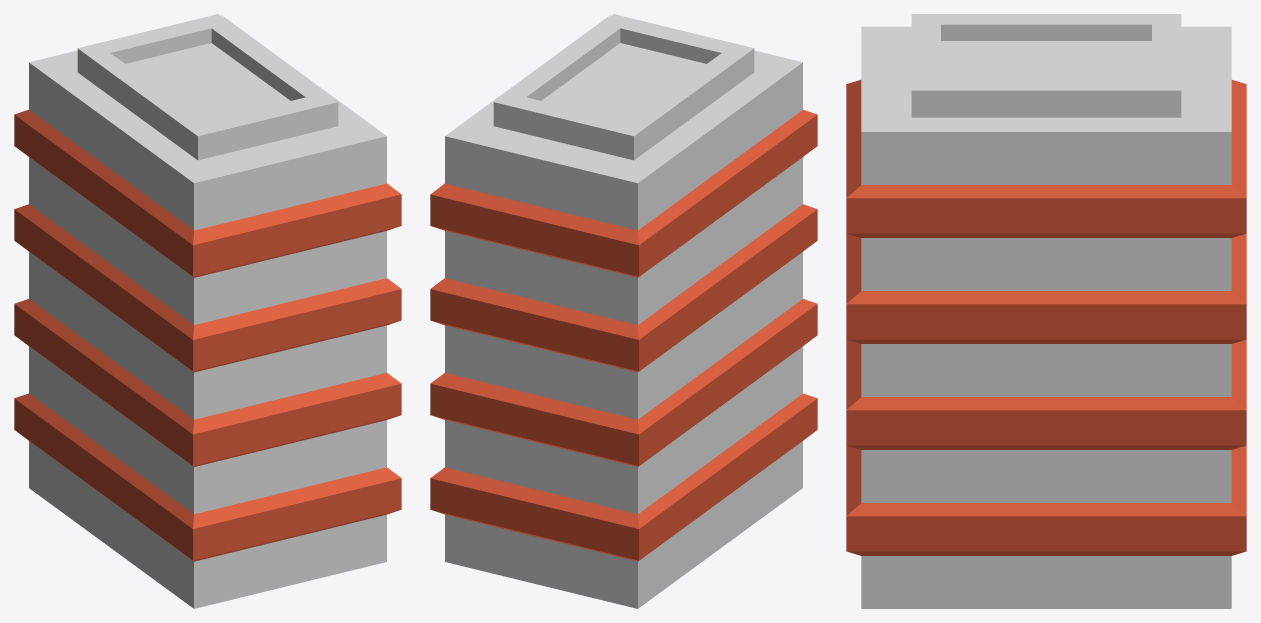
Rendered from building_strips_red.glb.
3 renders of one model, left to right at view 1: azimuth 30°, elevation 25°; view 2: azimuth 150°, elevation 25°; view 3: azimuth 270°, elevation 25°, orthographic. The views are drawn at different scales.
Parts seen in each view (by area): view 1: building_strips; view 2: building_strips; view 3: building_strips.
Part boxes in pixels (x1,y1,x2,y2): building_strips: (14, 14, 401, 608); building_strips: (430, 14, 817, 608); building_strips: (846, 14, 1246, 608).
Bounding box in the file's own units: 7.22 × 14.87 × 10.71.
Materials: 1 (1 with a texture image).
